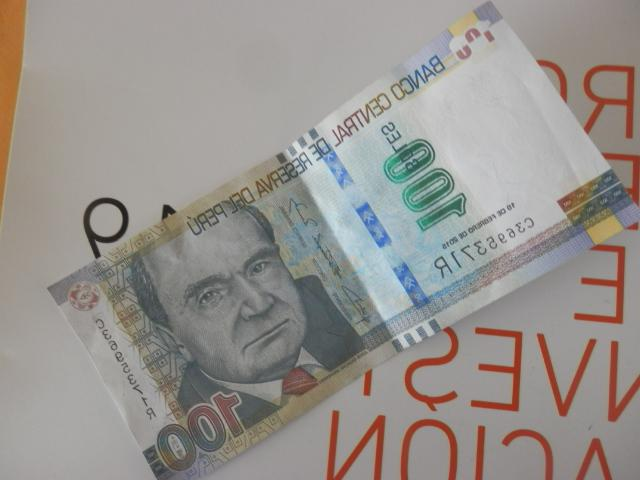B100: (46, 2, 639, 480)
